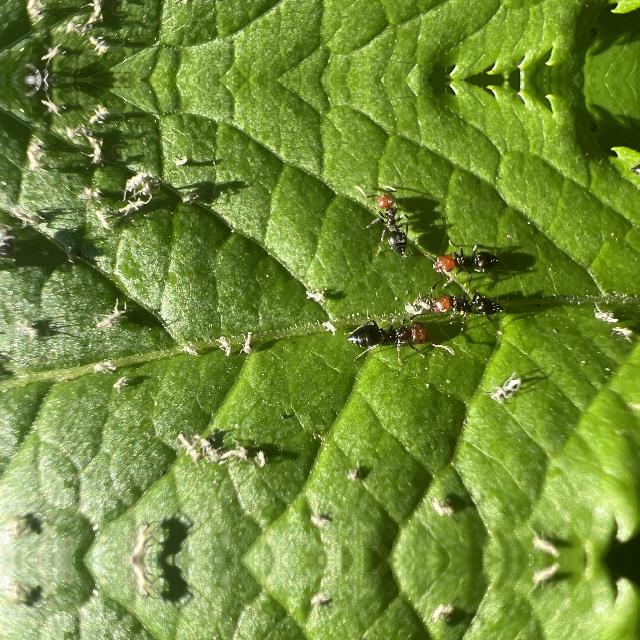Crematogaster: (402, 277, 502, 331), (369, 182, 423, 264), (345, 316, 441, 362), (430, 239, 500, 279)
